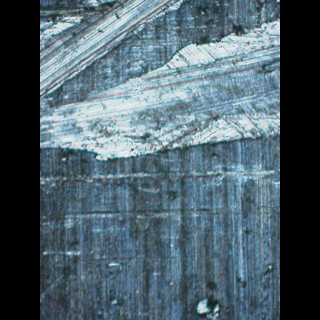d: (41, 0, 279, 168), (191, 282, 225, 319)
